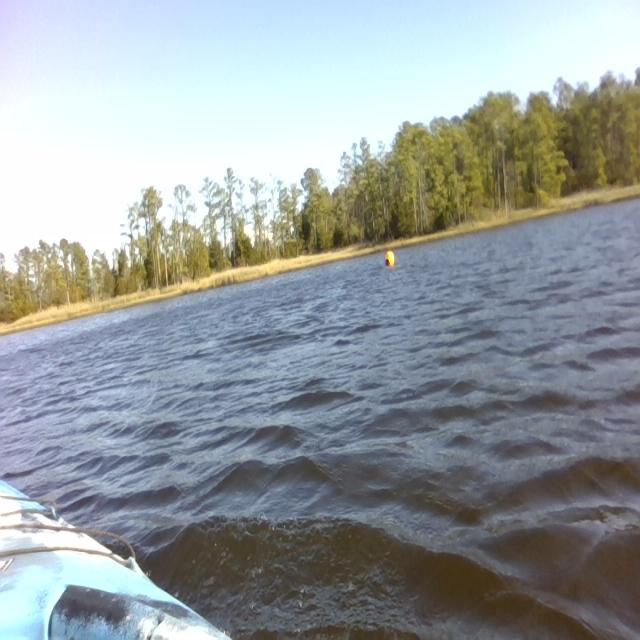Buoy: (381, 242, 399, 273)
